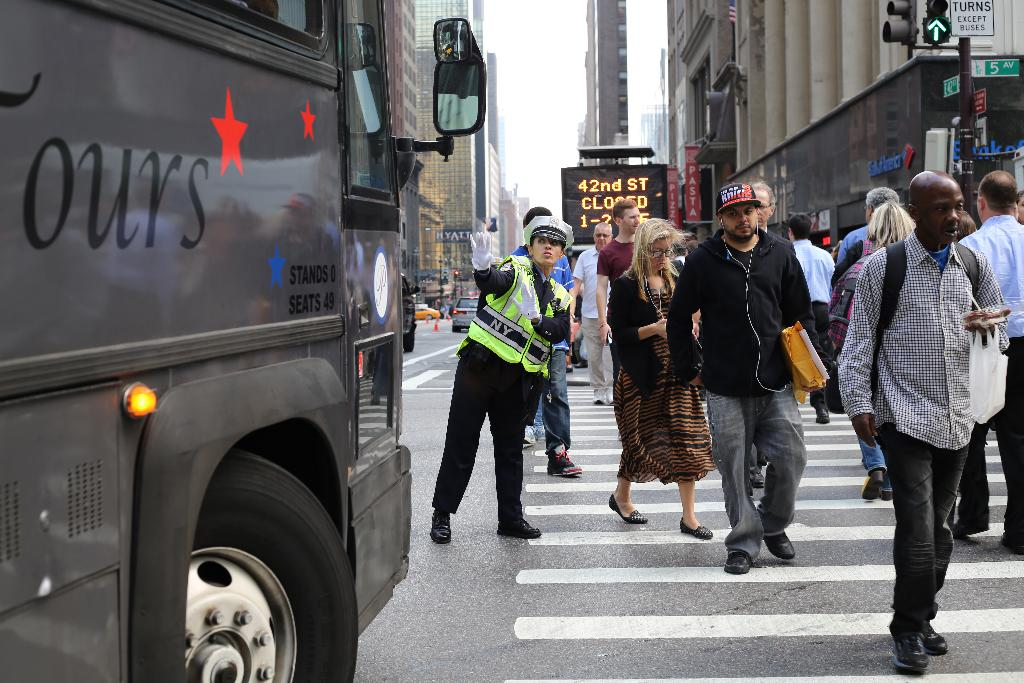Car: (451, 299, 478, 329), (416, 302, 439, 319)
